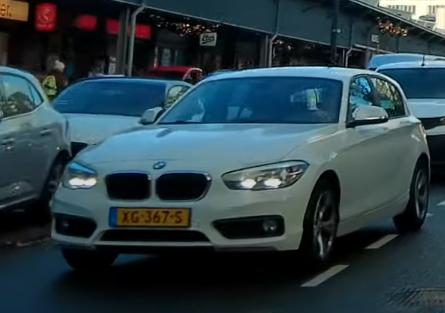license-plate: (110, 207, 192, 229)
